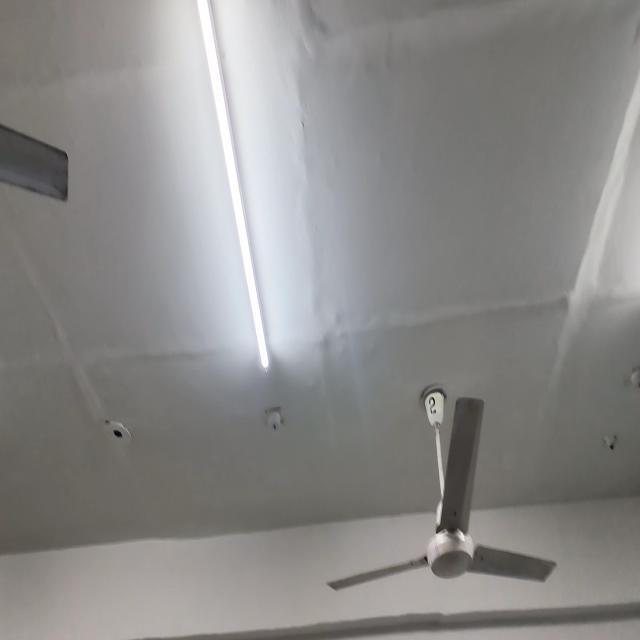Light: (197, 0, 269, 371)
